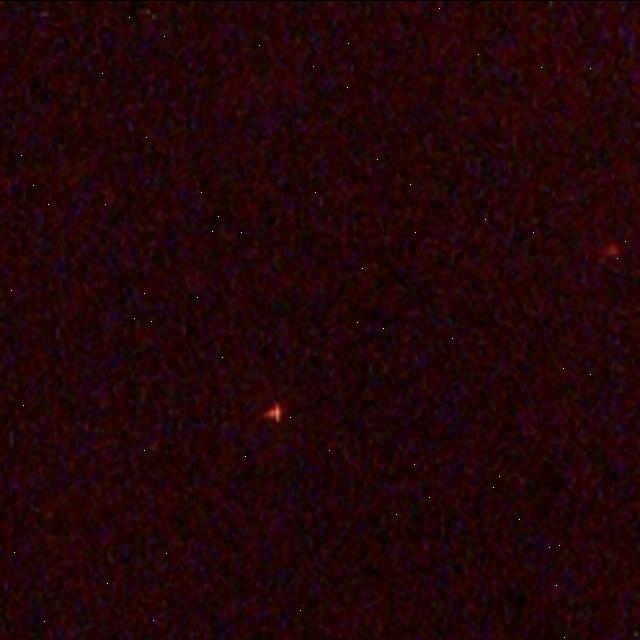Fragment: (261, 401, 281, 424)
